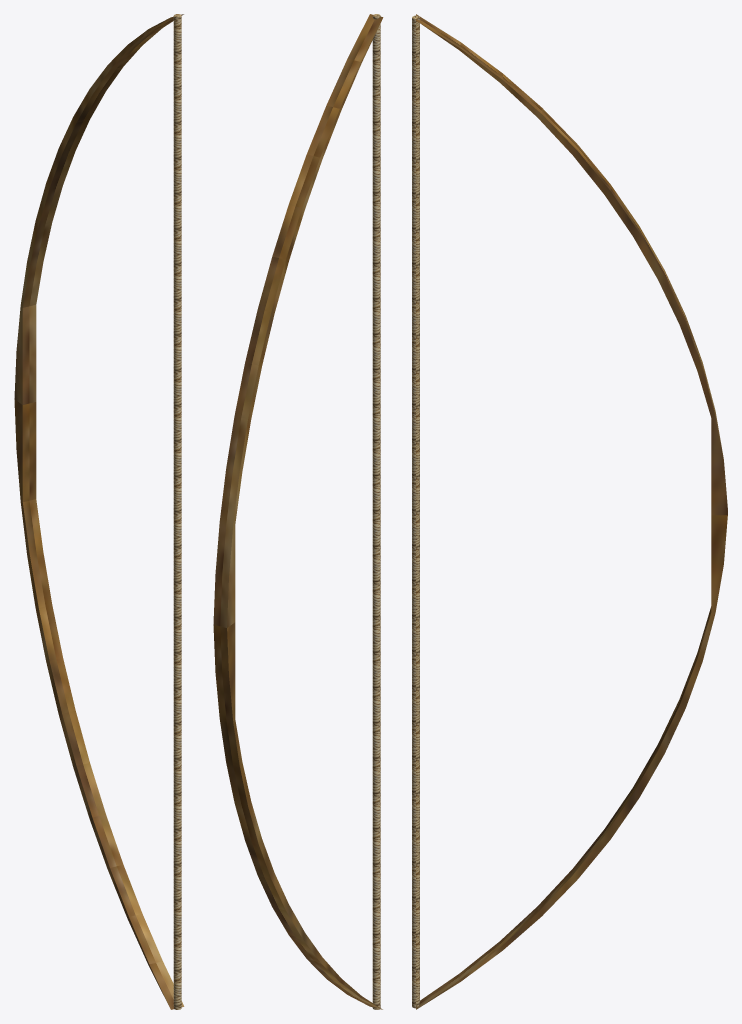
Rendered from bow.obj.
The picture shows the model from 3 angles, left to right: view 1: azimuth 30°, elevation 25°; view 2: azimuth 150°, elevation 25°; view 3: azimuth 270°, elevation 25°; orthographic projection.
Visible parts, largest first — view 1: bow_Main-Material1, bow_Main-Material2; view 2: bow_Main-Material1, bow_Main-Material2; view 3: bow_Main-Material1, bow_Main-Material2.
Part boxes in pixels (x1,y1,x2,y2): bow_Main-Material1: [14, 14, 184, 1009]; bow_Main-Material2: [173, 14, 181, 1009]; bow_Main-Material1: [213, 14, 383, 1009]; bow_Main-Material2: [372, 14, 380, 1009]; bow_Main-Material1: [416, 14, 727, 1009]; bow_Main-Material2: [412, 15, 419, 1008].
Size of the model in its own units: 0.02 by 1.4 by 0.405.
